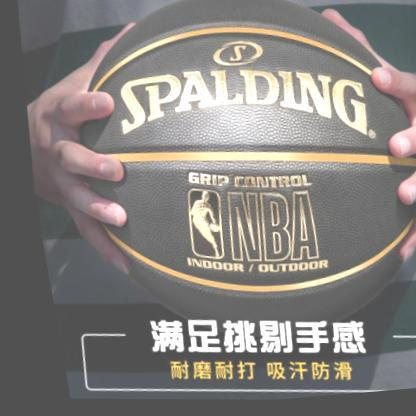basketball: (80, 0, 416, 345)
